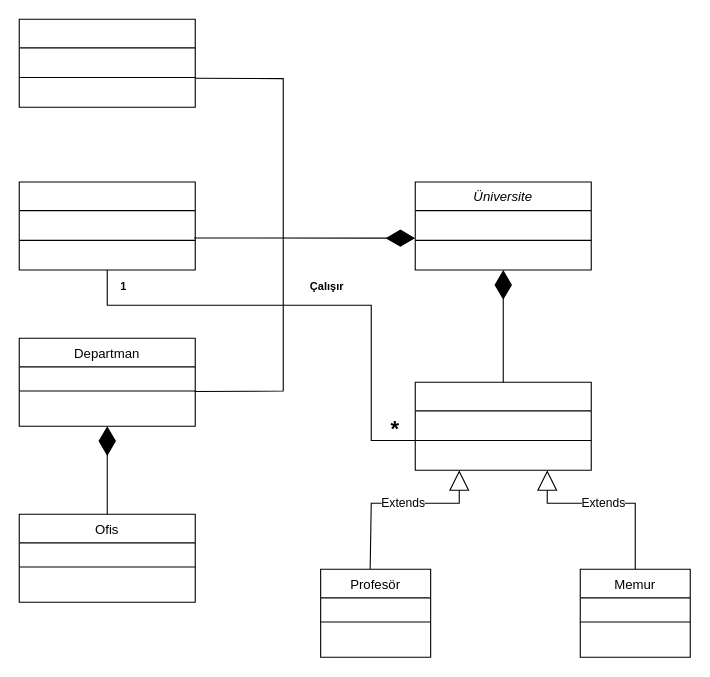
The diagram is 710 pixels wide and 677 high, and some of its shapes have lost their labels. Here are the shapes that lost their labels. From the top down, the box of each, then its label:
(18, 18, 195, 107): Sınıf
(18, 181, 195, 270): Çalışma Ofisi
(414, 381, 591, 470): Çalışan
